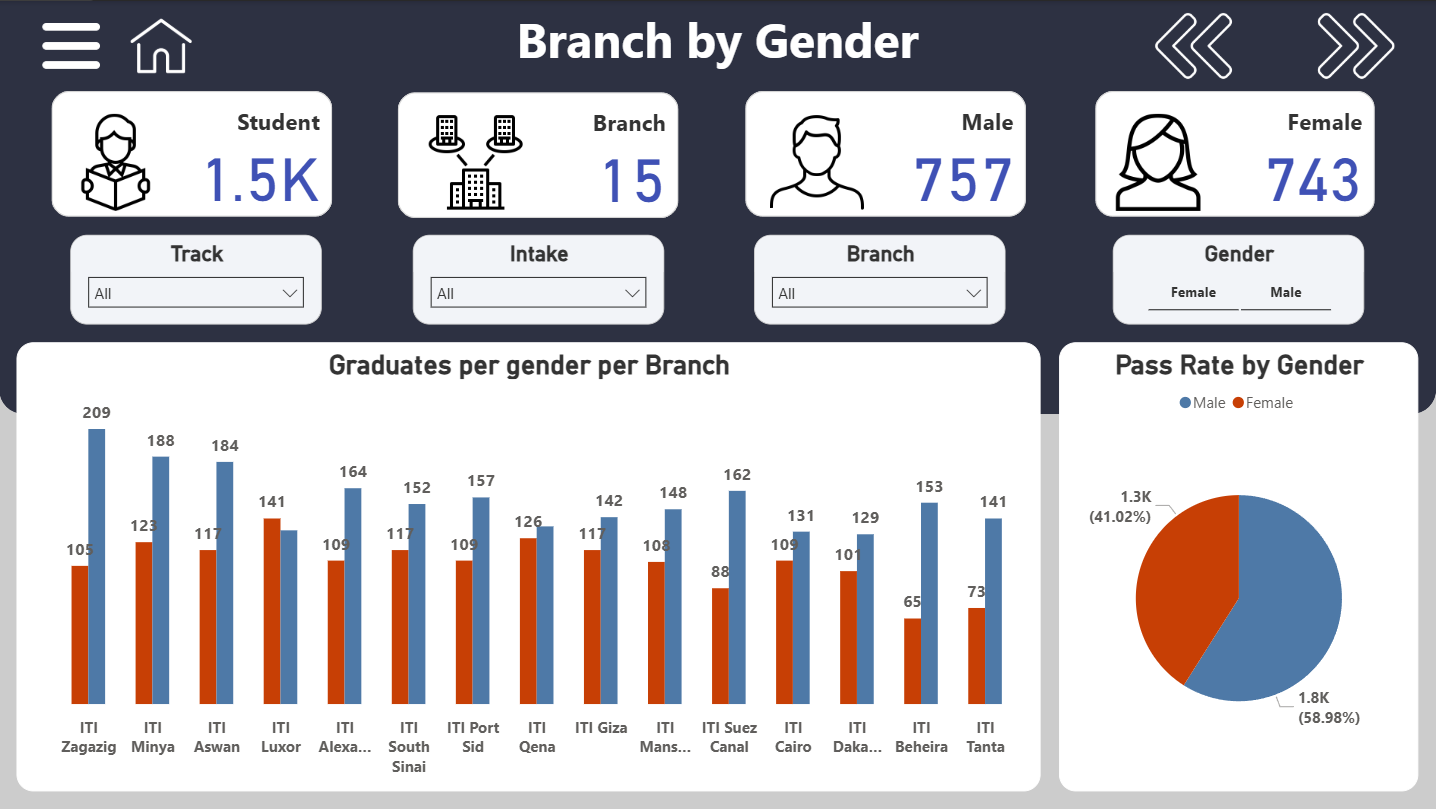

This screenshot's page, from the dashboard's own definition file:
{"tool":"powerbi","page":{"name":"15.Branch by Gender","canvas":[1280,720],"ordinal":14},"visuals":[{"type":"shape","box":[0,0,1280,368],"z":0},{"type":"cardVisual","fields":{"Data":["CountNonNull(Dim_student.st_id_BK)"]},"box":[46.2,79.9,250,112],"z":1000},{"type":"cardVisual","fields":{"Data":["CountNonNull(Dim_Branch.Branch_id_BK)"]},"box":[355.5,81.8,250,112],"z":2000},{"type":"cardVisual","fields":{"Data":["Dim_student.Male Students"]},"box":[664.9,79.9,250,112],"z":3000},{"type":"cardVisual","fields":{"Data":["Dim_student.Female Students"]},"box":[976,80,249,112],"z":4000},{"type":"slicer","title":"Branch","fields":{"Values":["Dim_Branch.Branch_Name"]},"box":[672,208,224,80],"z":5000},{"type":"slicer","title":"Track","fields":{"Values":["Dim_Track.Track_Name"]},"box":[64,208,224,80],"z":6000},{"type":"slicer","title":"Intake","fields":{"Values":["Dim_student.Intake_name"]},"box":[368,208,224,80],"z":7000},{"type":"textbox","box":[432,0,416,80],"z":8000},{"type":"pieChart","title":"Pass Rate by Gender","fields":{"Category":["Dim_student.Gender"],"Y":["Dim_Exam.Pass Count"]},"box":[944,304,320,400],"z":9000},{"type":"clusteredColumnChart","title":"Graduates per gender per Branch","fields":{"Series":["Dim_student.Gender"],"Category":["Dim_Branch.Branch_Name"],"Y":["CountNonNull(Fact_Exam_Result.Branch_SK_FK)"]},"box":[16,304,912,400],"z":10000},{"type":"slicer","title":"Gender","fields":{"Values":["Dim_student.Gender"]},"box":[992,208,224,80],"z":11000},{"type":"image","box":[48,96,112,96],"z":12000},{"type":"image","box":[976,96,112,96],"z":13000},{"type":"image","box":[672,96,112,96],"z":14000},{"type":"image","box":[368,96,112,96],"z":15000},{"type":"image","box":[1136,0,144,80],"z":16000},{"type":"image","box":[992,0,144,80],"z":17000},{"type":"image","box":[32,0,64,80],"z":18000},{"type":"image","box":[112,0,64,80],"z":19000}]}

Visuals, with their boxes in screenshot pixels (x1, y1, x2, y2), scaled from the page's 1280x720 canvas onto the 1436x809 screenshot:
shape: [left=0, top=0, right=1435, bottom=413]
cardVisual - CountNonNull(Dim_student.st_id_BK): [left=52, top=90, right=332, bottom=216]
cardVisual - CountNonNull(Dim_Branch.Branch_id_BK): [left=399, top=92, right=679, bottom=218]
cardVisual - Dim_student.Male Students: [left=746, top=90, right=1026, bottom=216]
cardVisual - Dim_student.Female Students: [left=1095, top=90, right=1374, bottom=216]
"Branch" slicer: [left=754, top=234, right=1005, bottom=324]
"Track" slicer: [left=72, top=234, right=323, bottom=324]
"Intake" slicer: [left=413, top=234, right=664, bottom=324]
textbox: [left=485, top=0, right=951, bottom=90]
"Pass Rate by Gender" pieChart: [left=1059, top=342, right=1418, bottom=791]
"Graduates per gender per Branch" clusteredColumnChart: [left=18, top=342, right=1041, bottom=791]
"Gender" slicer: [left=1113, top=234, right=1364, bottom=324]
image: [left=54, top=108, right=180, bottom=216]
image: [left=1095, top=108, right=1221, bottom=216]
image: [left=754, top=108, right=880, bottom=216]
image: [left=413, top=108, right=538, bottom=216]
image: [left=1274, top=0, right=1435, bottom=90]
image: [left=1113, top=0, right=1274, bottom=90]
image: [left=36, top=0, right=108, bottom=90]
image: [left=126, top=0, right=197, bottom=90]
